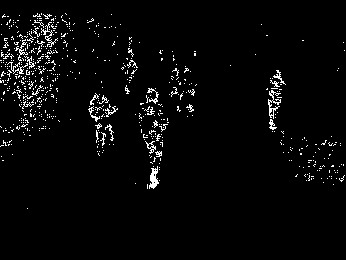person: (137, 87, 166, 193), (88, 90, 121, 156), (266, 68, 285, 131)
